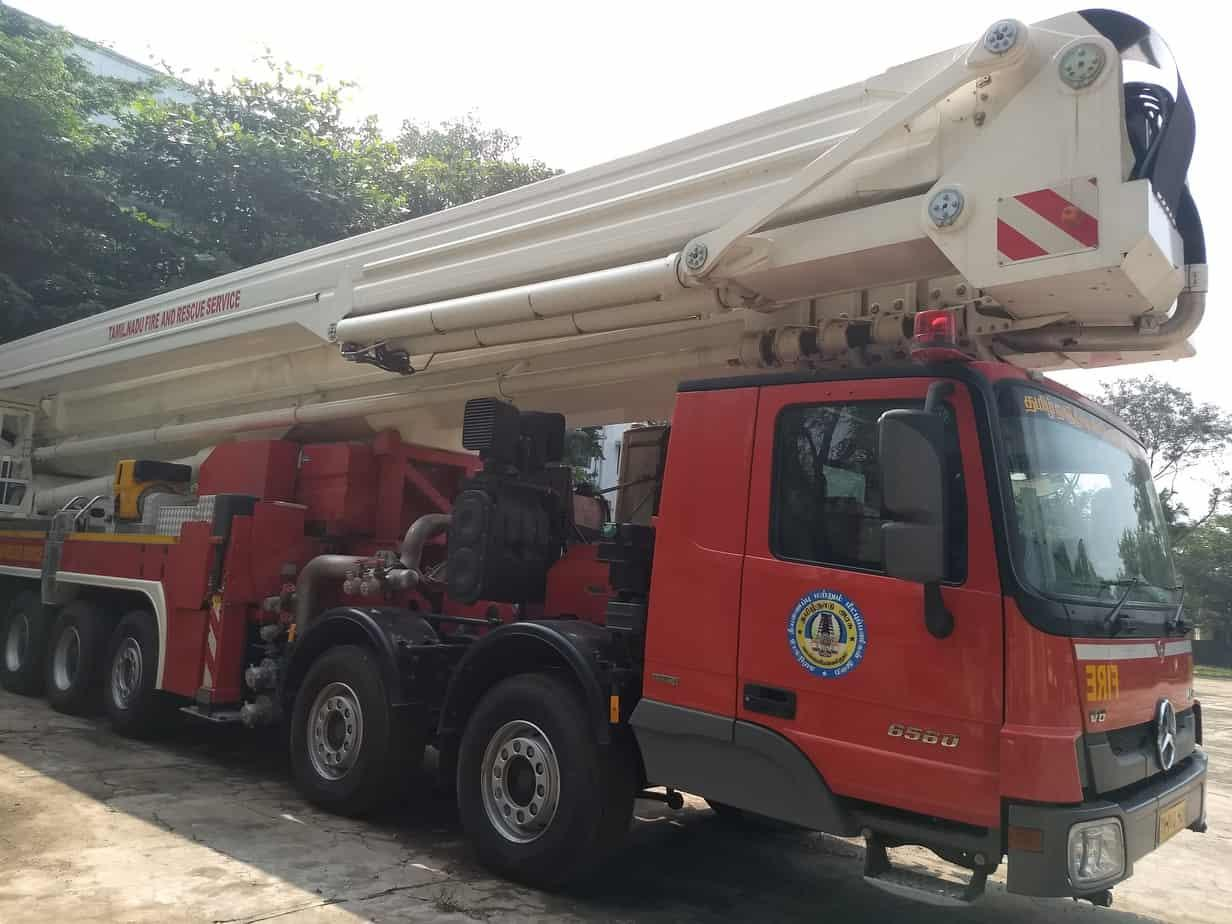Fire-engine: (20, 7, 1232, 924)
